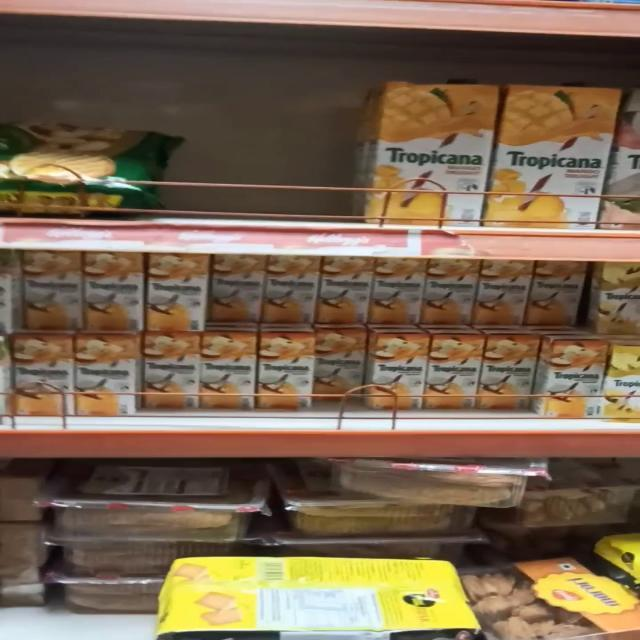Tropicana: (345, 73, 485, 228), (492, 74, 614, 235), (78, 252, 146, 336), (15, 339, 80, 418), (19, 252, 88, 326), (143, 248, 205, 330), (476, 334, 544, 408), (204, 257, 266, 335), (518, 259, 588, 328), (315, 248, 375, 328), (548, 336, 609, 414), (308, 333, 373, 400), (262, 256, 322, 328), (197, 339, 261, 406), (371, 338, 428, 408), (76, 341, 136, 407), (142, 338, 200, 406), (422, 259, 483, 323), (428, 334, 480, 408), (472, 258, 524, 328), (260, 338, 312, 408), (372, 254, 419, 330)
